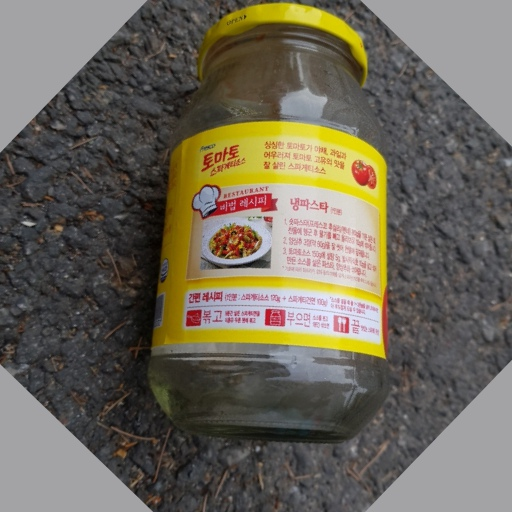Glass_5: (144, 4, 395, 444)
